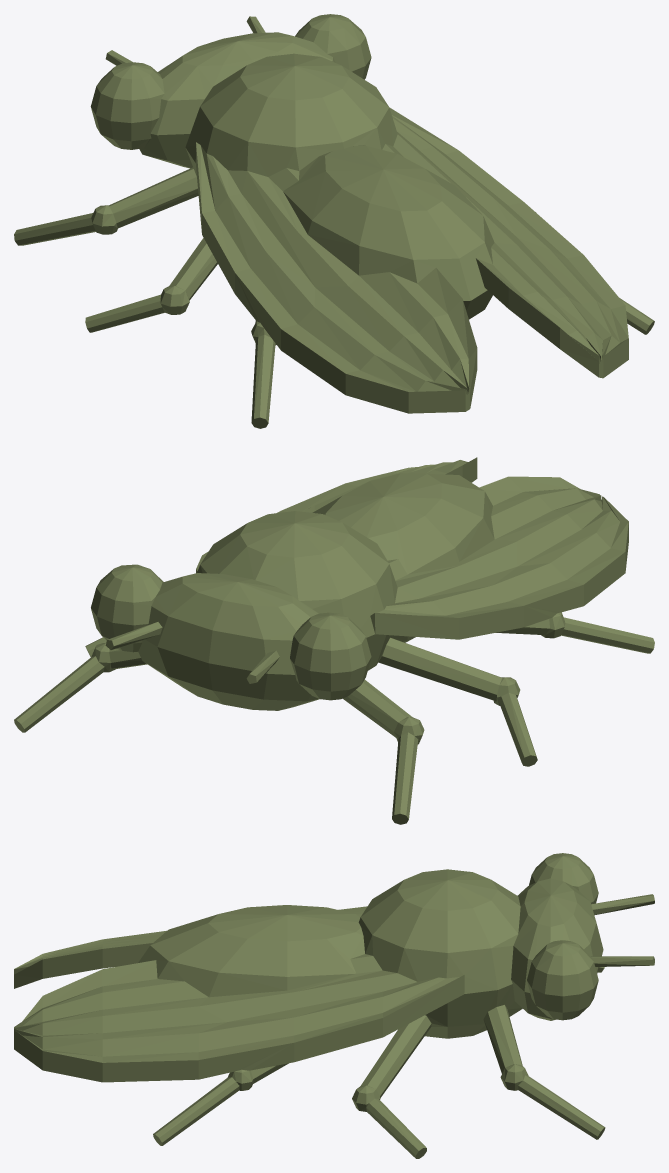
Rendered from NEW_RECOVERY_082_LOD1.glb.
3 renders of one model, top to bottom at view 1: azimuth 30°, elevation 25°; view 2: azimuth 150°, elevation 25°; view 3: azimuth 270°, elevation 25°, orthographic. The views are drawn at different scales.
Visible parts, largest first — view 1: Cicada_whole; view 2: Cicada_whole; view 3: Cicada_whole.
Part boxes in pixels (x1,y1,x2,y2): Cicada_whole: [14, 14, 654, 428]; Cicada_whole: [14, 457, 654, 824]; Cicada_whole: [14, 853, 654, 1158].
Size of the model in its own units: 1.96 by 0.8398 by 2.67.
